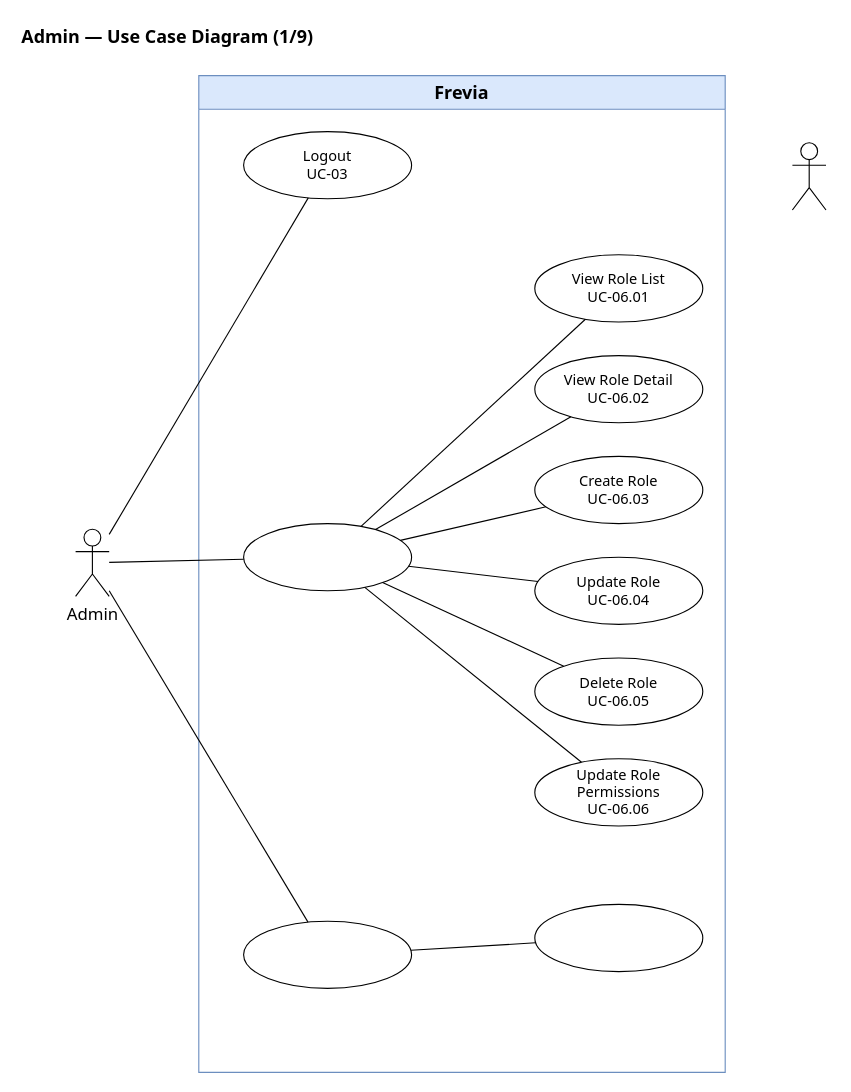
This 851x1092 diagram has some shape labels left out. The centre of each missing label's shape, as x and y in pixels:
Contract Management UC-13: the point at 327,954
Role Management UC-06: the point at 327,556
Stripe: the point at 808,176
View All Contracts UC-13.11: the point at 618,937
